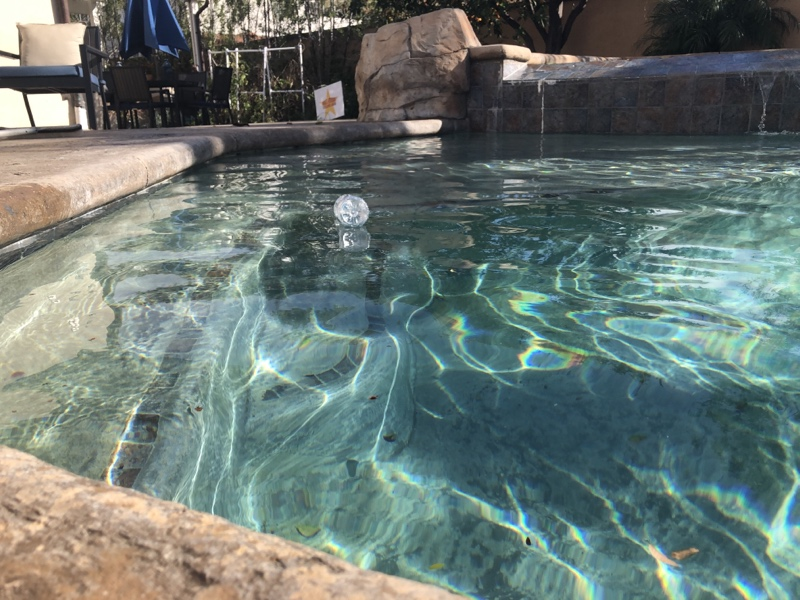Plastic Bottle: (332, 192, 369, 231)
